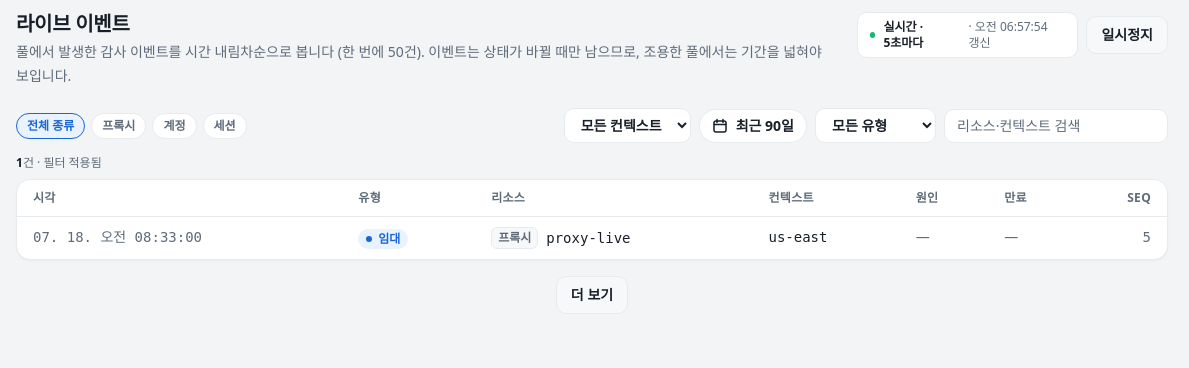
Scenario: 라이브 이벤트 화면 (integration + MSW) › '라이브로'를 누르면 최신으로 초기화하고 실시간 상태로 돌아온다
The width and height of the screenshot is (1189, 368).
Check: the text "proxy-live" is shown, box [546, 228, 631, 248]
Click the button "더 보기": (592, 295) [556, 276, 628, 314]
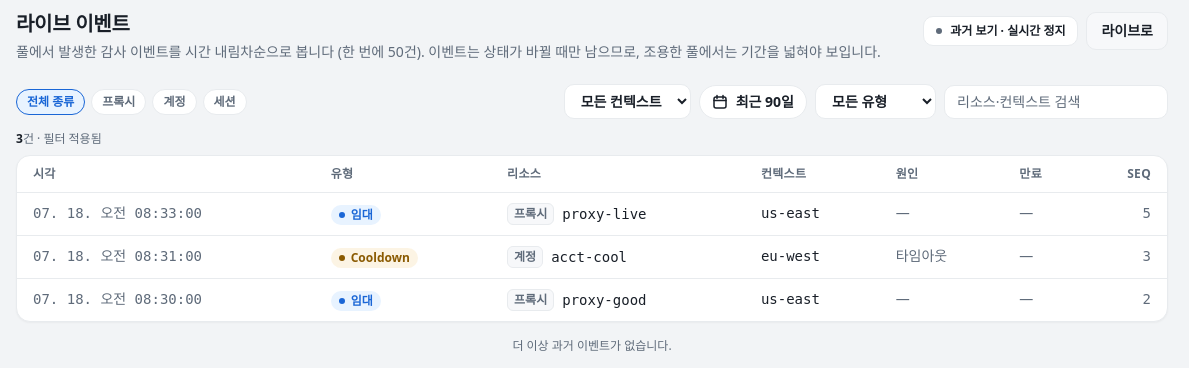
Check: the text "acct-cool" is shown, box [551, 247, 627, 267]
// 라이브로 → 최신 페이지로 재조회, 과거 항목 사라지고 실시간 라벨 복귀.
Click the button "라이브로": (1127, 31) [1086, 12, 1168, 50]
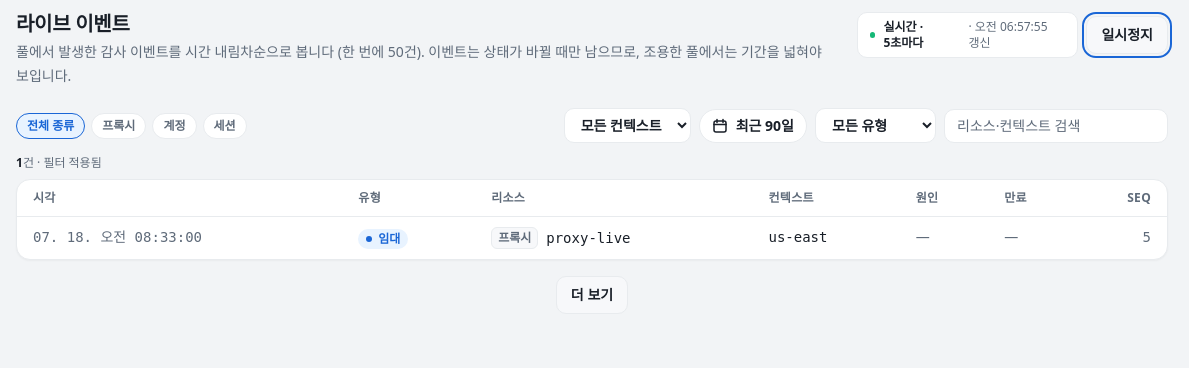
Check: the text "proxy-live" is shown, box [546, 228, 631, 248]
Check: the text "실시간 · 5초마다" is shown, box [883, 18, 923, 51]
Check: the text "acct-cool" is gone
